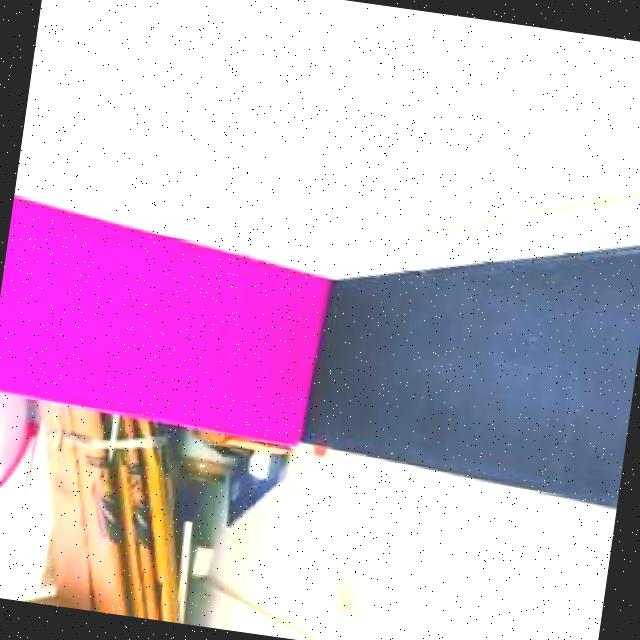xparking: (0, 208, 321, 433)
